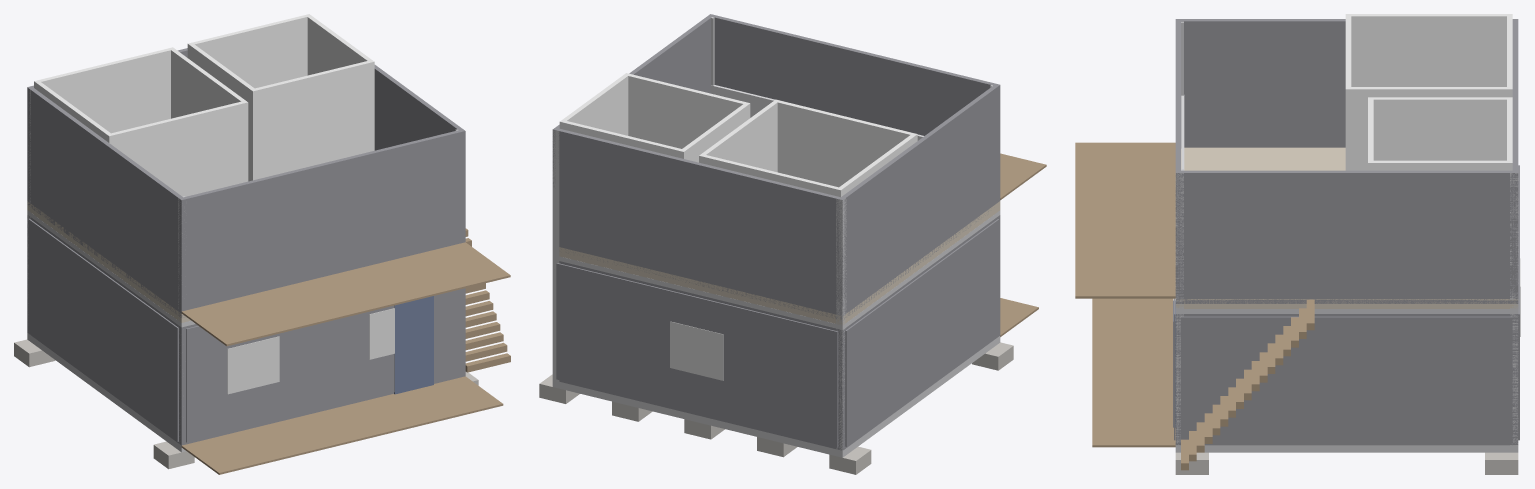
Rendered from Duplex-20-Base-AncientWallGrey-LOD2.glb.
3 views of the same model, side by side, from view 1: azimuth 30°, elevation 25°; view 2: azimuth 150°, elevation 25°; view 3: azimuth 270°, elevation 25° (orthographic). The views are drawn at different scales.
Visible parts, largest first — view 1: ExteriorShellUpper, ExteriorPanelsStandard, StudyUpper, BedroomUpper, BalconyUpper, BalconyGround, WindowsStandard, EntryDoor, StaircaseExternal, ExteriorShell, FoundationBlocks, FloorUpper (+2 smaller); view 2: ExteriorShellUpper, ExteriorPanelsStandard, BedroomUpper, StudyUpper, FloorUpper, VerticalStructure, FoundationBlocks, BaseFrame, ExteriorShell, WindowsStandard, TopFrame, BalconyUpper (+2 smaller); view 3: ExteriorShellUpper, ExteriorPanelsStandard, BalconyUpper, BedroomUpper, BalconyGround, StudyUpper, FloorUpper, StaircaseExternal, ExteriorShell, VerticalStructure, BaseFrame, TopFrame (+1 smaller).
Boxes of the visible parts, <box> form: ExteriorShellUpper: <box>27,48,465,317</box>; ExteriorPanelsStandard: <box>28,218,461,442</box>; StudyUpper: <box>187,14,374,181</box>; BedroomUpper: <box>34,47,248,196</box>; BalconyUpper: <box>181,242,510,346</box>; BalconyGround: <box>181,376,503,474</box>; WindowsStandard: <box>227,308,394,394</box>; EntryDoor: <box>394,296,433,394</box>; StaircaseExternal: <box>465,228,510,372</box>; ExteriorShell: <box>27,215,465,445</box>; FoundationBlocks: <box>14,339,478,469</box>; FloorUpper: <box>27,201,190,322</box>; ExteriorShellUpper: <box>552,14,1000,319</box>; ExteriorPanelsStandard: <box>556,219,999,447</box>; BedroomUpper: <box>699,99,917,197</box>; StudyUpper: <box>559,73,750,162</box>; FloorUpper: <box>559,201,1000,325</box>; VerticalStructure: <box>552,17,998,450</box>; FoundationBlocks: <box>539,342,1013,474</box>; BaseFrame: <box>552,336,1000,457</box>; ExteriorShell: <box>559,215,1000,450</box>; WindowsStandard: <box>670,321,723,380</box>; TopFrame: <box>559,210,1000,329</box>; BalconyUpper: <box>1000,153,1046,199</box>; ExteriorShellUpper: <box>1175,19,1518,303</box>; ExteriorPanelsStandard: <box>1174,165,1519,443</box>; BalconyUpper: <box>1075,142,1175,298</box>; BedroomUpper: <box>1345,14,1512,170</box>; BalconyGround: <box>1092,298,1175,447</box>; StudyUpper: <box>1368,97,1512,170</box>; FloorUpper: <box>1175,147,1518,308</box>; StaircaseExternal: <box>1181,299,1314,470</box>; ExteriorShell: <box>1175,314,1518,445</box>; VerticalStructure: <box>1175,21,1518,445</box>; BaseFrame: <box>1175,445,1518,452</box>; TopFrame: <box>1175,309,1518,313</box>.
Bounding box in the file's own units: 7.94 × 6 × 8.
